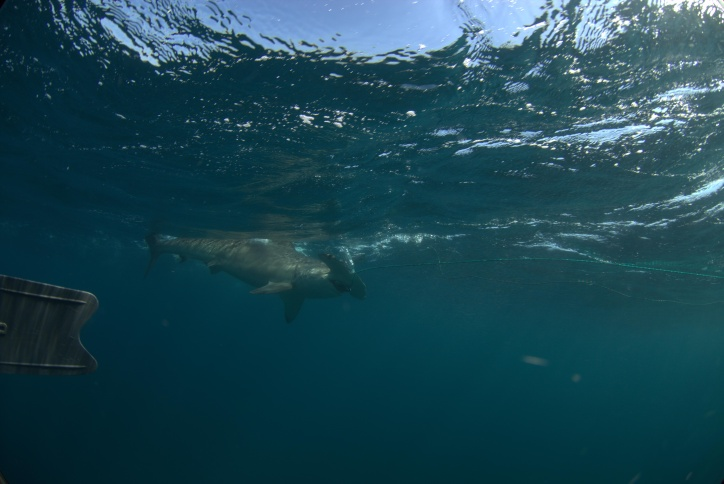Hammer: (120, 207, 395, 346)
